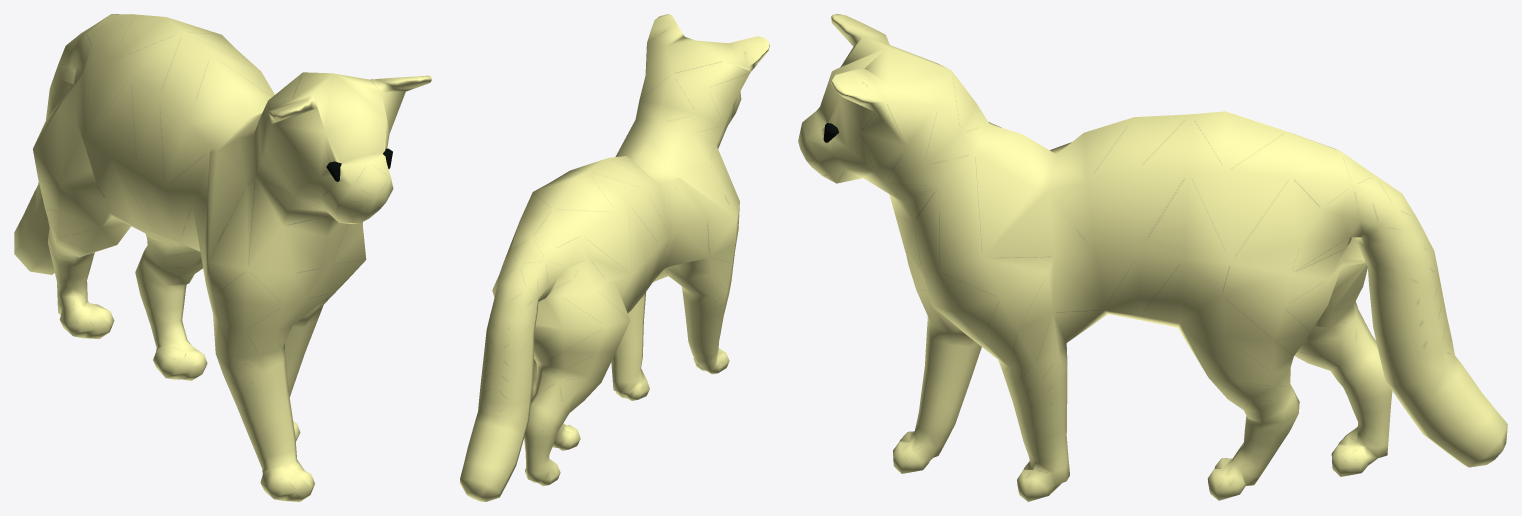
File: cat.fbx
3 views of the same model, side by side, from view 1: azimuth 30°, elevation 25°; view 2: azimuth 150°, elevation 25°; view 3: azimuth 270°, elevation 25° (orthographic). The views are drawn at different scales.
Parts seen in each view (by area): view 1: unamed; view 2: unamed; view 3: unamed.
Boxes of the visible parts, x1,y1,x2,y2 form: unamed: [14, 14, 431, 501]; unamed: [460, 14, 769, 501]; unamed: [798, 14, 1507, 501].
Size of the model in its own units: 0.4101 by 0.9633 by 1.39.
1 material, 1 textured.
